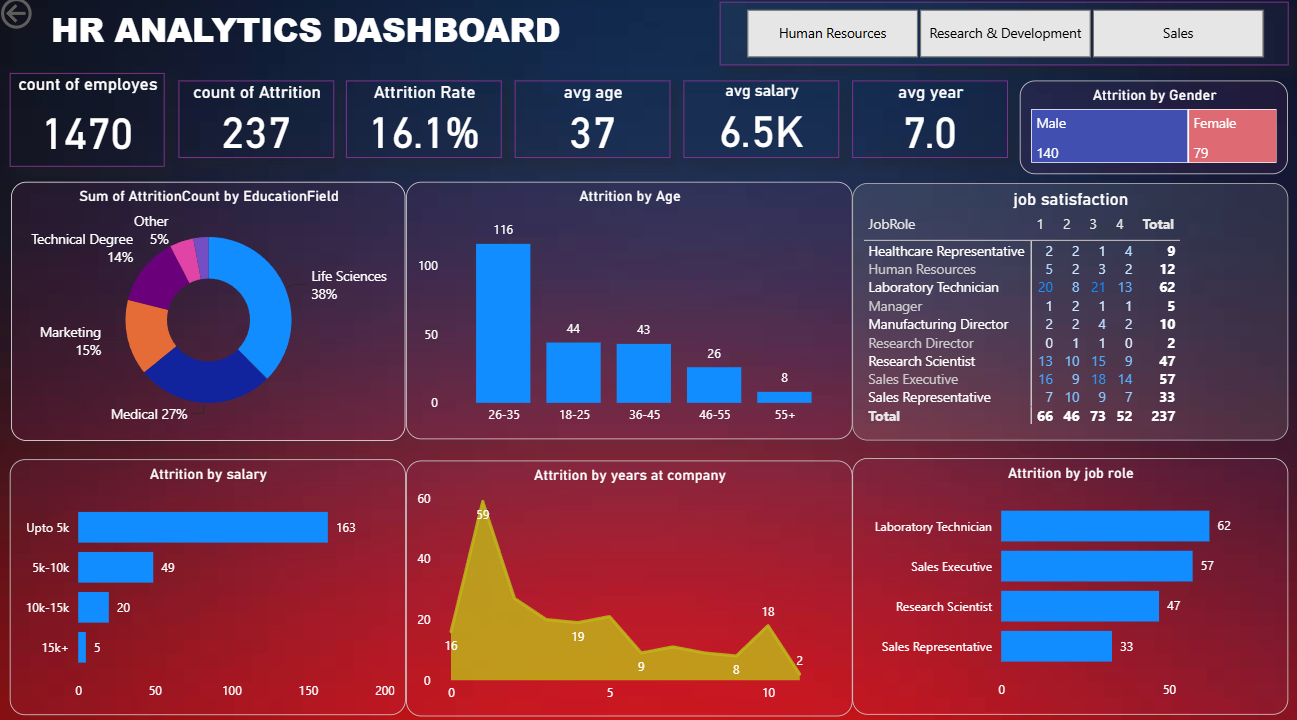

Layout of this report page (visuals, bound fields, positions):
{"tool":"powerbi","page":{"name":"Page 1","canvas":[1280,720],"ordinal":0},"visuals":[{"type":"card","title":"count of employes","fields":{"Values":["CountNonNull(HR_Analytics.EmployeeCount)"]},"box":[13.5,78.5,152.1,92],"z":0},{"type":"card","title":"count of Attrition","fields":{"Values":["Sum(HR_Analytics.AttritionCount)"]},"box":[179,85.8,152.8,75.7],"z":1000},{"type":"card","title":"Attrition Rate","fields":{"Values":["HR_Analytics.AttritionRate"]},"box":[343.4,85.8,152.8,75.7],"z":2000},{"type":"card","title":"avg age","fields":{"Values":["Avg(HR_Analytics.Age)"]},"box":[509.2,85.8,152.8,75.7],"z":3000},{"type":"actionButton","box":[0,0,100,40],"z":4000},{"type":"card","title":"avg  salary","fields":{"Values":["Avg(HR_Analytics.MonthlyIncome)"]},"box":[675.1,85.8,152.8,75.7],"z":5000},{"type":"card","title":"avg year","fields":{"Values":["Avg(HR_Analytics.YearsAtCompany)"]},"box":[840.9,85.8,152.8,75.7],"z":6000},{"type":"donutChart","fields":{"Category":["HR_Analytics.EducationField"],"Y":["Sum(HR_Analytics.AttritionCount)"]},"box":[14.8,185.6,387.3,254.2],"z":7000},{"type":"columnChart","title":"Attrition by Age","fields":{"Category":["HR_Analytics.AgeGroup"],"Y":["Sum(HR_Analytics.AttritionCount)"]},"box":[402.1,185.6,438.4,252.8],"z":8000},{"type":"pivotTable","title":"job satisfaction","fields":{"Rows":["HR_Analytics.JobRole"],"Columns":["HR_Analytics.JobSatisfaction"],"Values":["Sum(HR_Analytics.AttritionCount)"]},"box":[840.9,186.2,427.7,253.1],"z":9000},{"type":"barChart","title":"Attrition by salary","fields":{"Category":["HR_Analytics.SalarySlab"],"Y":["Sum(HR_Analytics.AttritionCount)"]},"box":[13.4,457.2,388.7,251.5],"z":10000},{"type":"barChart","title":"Attrition by job role","fields":{"Y":["Sum(HR_Analytics.AttritionCount)"],"Category":["HR_Analytics.JobRole"]},"box":[840.9,456.8,427.7,251.7],"z":11000},{"type":"areaChart","title":"Attrition by years at company","fields":{"Category":["HR_Analytics.YearsAtCompany"],"Y":["Sum(HR_Analytics.AttritionCount)"]},"box":[402.1,458.6,438.4,251.5],"z":12000},{"type":"treemap","title":"Attrition by Gender","fields":{"Group":["HR_Analytics.Gender"],"Values":["Sum(HR_Analytics.AttritionCount)"]},"box":[1005.3,85.8,263.3,91.7],"z":13000},{"type":"slicer","fields":{"Values":["HR_Analytics.Department"]},"box":[710,8.7,558.7,62.6],"z":14000},{"type":"textbox","box":[49.5,8.7,520.8,62.6],"z":15000}]}

Visuals, with their boxes in screenshot pixels (x1, y1, x2, y2), scaled from the page's 1280x720 canvas onto the 1297x720 screenshot:
"count of employes" card: left=14, top=78, right=168, bottom=170
"count of Attrition" card: left=181, top=86, right=336, bottom=162
"Attrition Rate" card: left=348, top=86, right=503, bottom=162
"avg age" card: left=516, top=86, right=671, bottom=162
actionButton: left=0, top=0, right=101, bottom=40
"avg  salary" card: left=684, top=86, right=839, bottom=162
"avg year" card: left=852, top=86, right=1007, bottom=162
donutChart - HR_Analytics.EducationField x Sum(HR_Analytics.AttritionCount): left=15, top=186, right=407, bottom=440
"Attrition by Age" columnChart: left=407, top=186, right=852, bottom=438
"job satisfaction" pivotTable: left=852, top=186, right=1285, bottom=439
"Attrition by salary" barChart: left=14, top=457, right=407, bottom=709
"Attrition by job role" barChart: left=852, top=457, right=1285, bottom=708
"Attrition by years at company" areaChart: left=407, top=459, right=852, bottom=710
"Attrition by Gender" treemap: left=1019, top=86, right=1285, bottom=178
slicer - HR_Analytics.Department: left=719, top=9, right=1286, bottom=71
textbox: left=50, top=9, right=578, bottom=71
